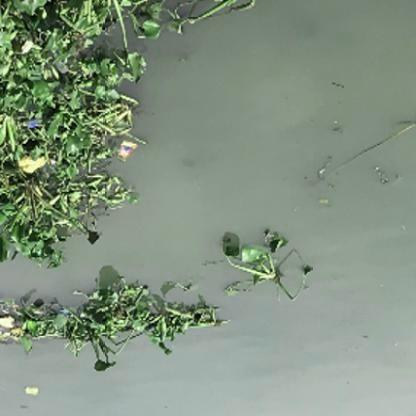Trash: (111, 132, 141, 162)
